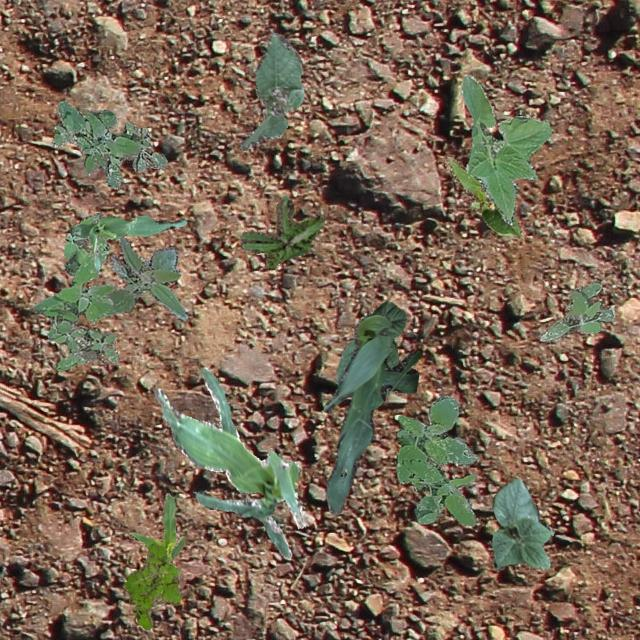crop: (154, 367, 304, 558), (322, 312, 421, 514), (460, 74, 550, 224), (238, 32, 302, 148), (334, 300, 406, 394), (68, 214, 185, 270), (442, 156, 522, 237), (492, 476, 552, 568), (128, 492, 184, 564)
weed: (32, 210, 118, 370), (394, 394, 478, 526), (50, 100, 166, 188), (104, 237, 186, 321), (240, 194, 324, 268), (124, 542, 182, 628), (538, 278, 614, 340)
